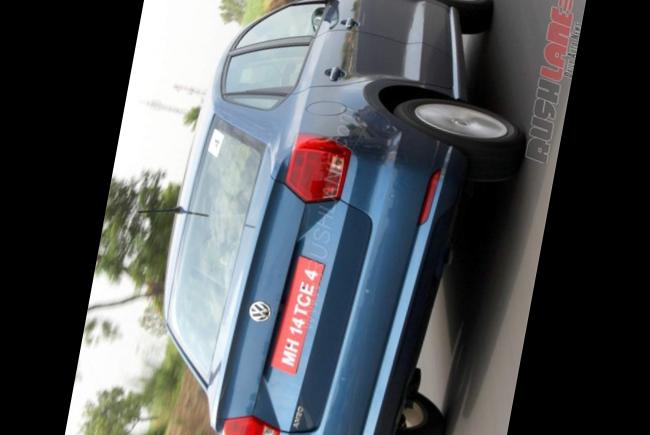plate: (262, 240, 332, 380)
